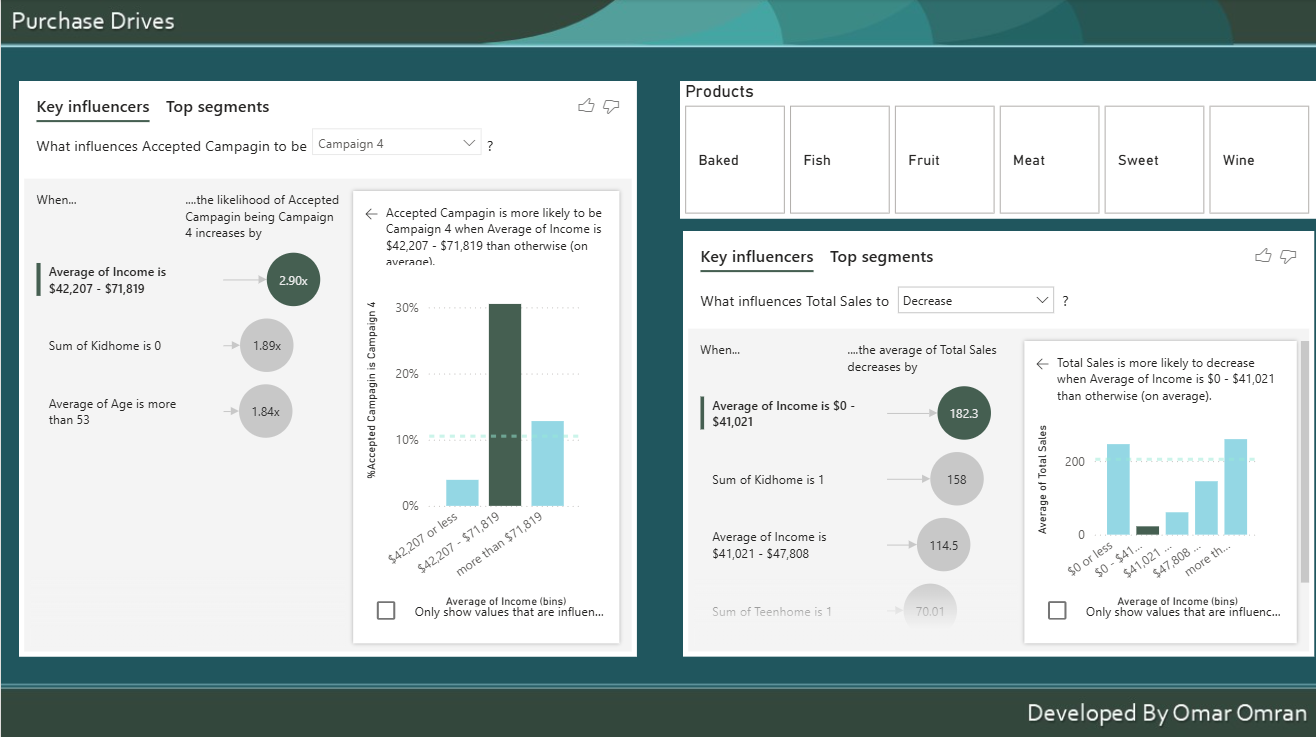

The page's visual inventory and layout, read from the dashboard file:
{"tool":"powerbi","page":{"name":"Purchase Drivers","canvas":[1280,720],"ordinal":2},"visuals":[{"type":"keyDriversVisual","fields":{"Target":["campaign.Campagin"],"ExplainBy":["Avg(marketmindz_research_data (1).Age)","Avg(marketmindz_research_data (1). Income )","marketmindz_research_data (1).Education","marketmindz_research_data (1).Country","marketmindz_research_data (1).Marital_Status","Sum(marketmindz_research_data (1).Kidhome)","Sum(marketmindz_research_data (1).Teenhome)"]},"box":[17.5,79.8,601.1,560.2],"z":0},{"type":"keyDriversVisual","fields":{"ExplainBy":["Avg(marketmindz_research_data (1).Age)","Avg(marketmindz_research_data (1). Income )","marketmindz_research_data (1).Education","marketmindz_research_data (1).Country","marketmindz_research_data (1).Marital_Status","Sum(marketmindz_research_data (1).Kidhome)","Sum(marketmindz_research_data (1).Teenhome)"],"Target":["products.Total Sales"]},"box":[663.3,225.7,613.7,414.3],"z":1000},{"type":"advancedSlicerVisual","fields":{"Values":["products.Products"]},"box":[660.4,79.8,619.6,134.2],"z":2000}]}

Visuals, with their boxes in screenshot pixels (x1, y1, x2, y2), scaled from the page's 1280x720 canvas onto the 1316x737 screenshot:
keyDriversVisual - campaign.Campagin x Avg(marketmindz_research_data (1).Age): (x1=18, y1=82, x2=636, y2=655)
keyDriversVisual - Avg(marketmindz_research_data (1).Age) x Avg(marketmindz_research_data (1). Income ): (x1=682, y1=231, x2=1313, y2=655)
advancedSlicerVisual - products.Products: (x1=679, y1=82, x2=1315, y2=219)
